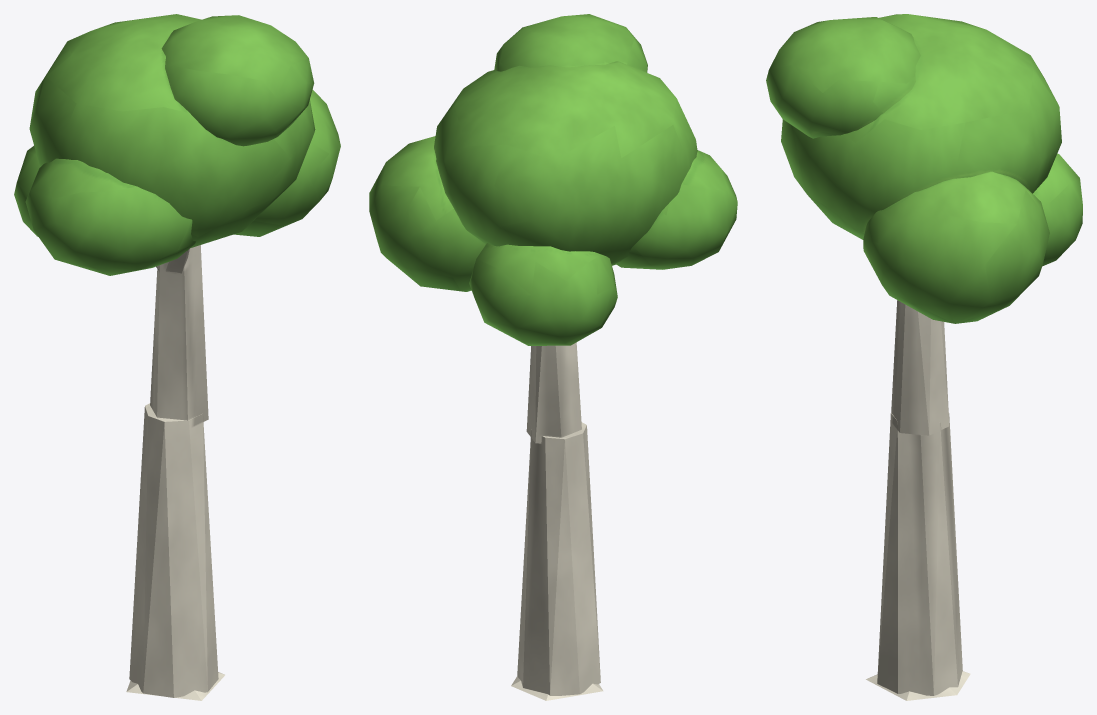
The model's file is broadleaf_a.lo.glb.
3 views of the same model, side by side, from view 1: azimuth 30°, elevation 25°; view 2: azimuth 150°, elevation 25°; view 3: azimuth 270°, elevation 25° (orthographic). The views are drawn at different scales.
Visible parts, largest first — view 1: broadleaf; view 2: broadleaf; view 3: broadleaf.
Boxes of the visible parts, left/top/right/bottom form: broadleaf: left=14, top=14, right=340, bottom=700; broadleaf: left=369, top=14, right=737, bottom=700; broadleaf: left=766, top=14, right=1082, bottom=700.
Size of the model in its own units: 4.13 by 7.98 by 3.47.
1 material, 1 textured.
